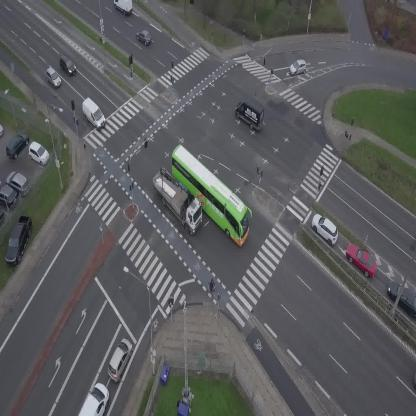bicycle: (206, 278, 218, 299)
bus: (156, 141, 264, 249)
car: (341, 238, 383, 282), (103, 336, 137, 384), (306, 209, 344, 247), (76, 381, 117, 416), (55, 54, 79, 78), (41, 66, 64, 90), (133, 25, 155, 47), (288, 58, 308, 77)
lorry: (144, 165, 212, 236), (230, 94, 271, 133), (77, 96, 110, 130), (113, 0, 132, 15)
